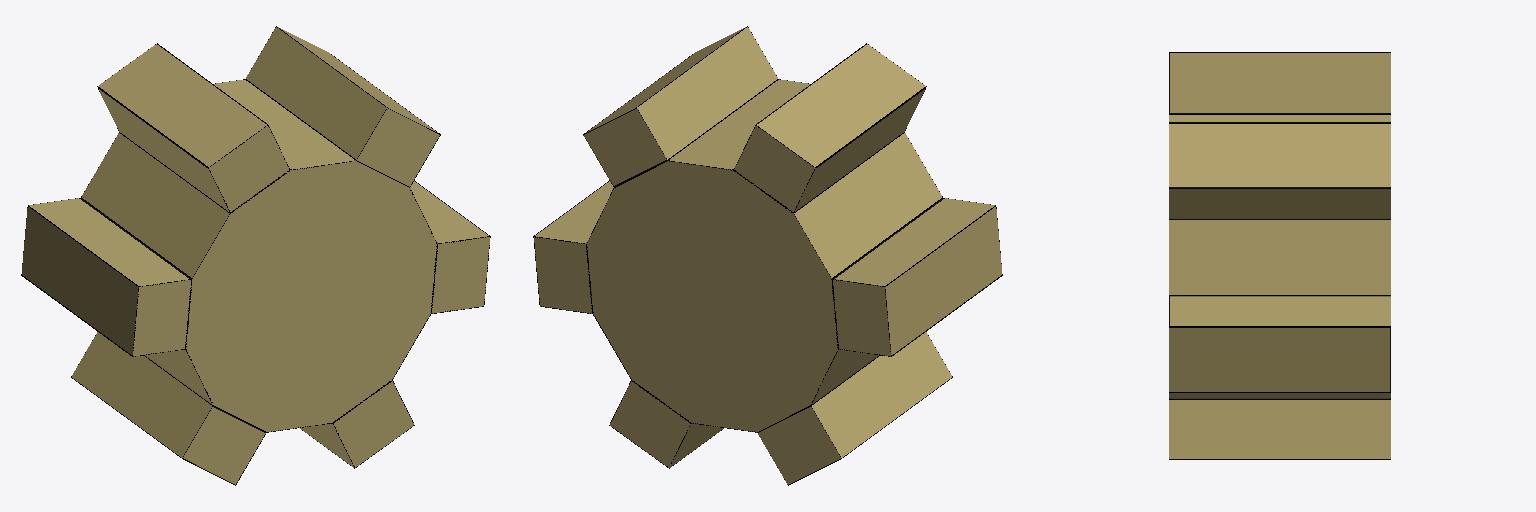
The picture shows the model from 3 angles: view 1: azimuth 30°, elevation 25°; view 2: azimuth 150°, elevation 25°; view 3: azimuth 270°, elevation 25°; orthographic projection.
Visible parts, largest first — view 1: track_gear_Cylinder; view 2: track_gear_Cylinder; view 3: track_gear_Cylinder.
Part boxes in pixels (bbox=[...]): track_gear_Cylinder: bbox=[21, 26, 490, 485]; track_gear_Cylinder: bbox=[533, 26, 1002, 485]; track_gear_Cylinder: bbox=[1169, 52, 1390, 459].
Size of the model in its own units: 1.4 by 1.37 by 0.7533.
Materials: 1 (1 with a texture image).